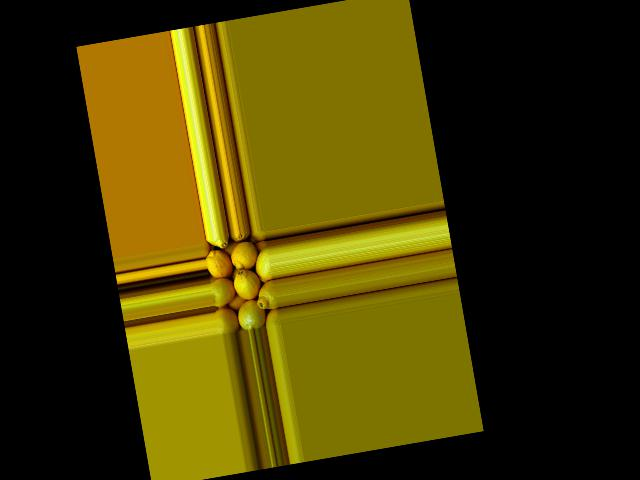lemon: (262, 309, 279, 328)
